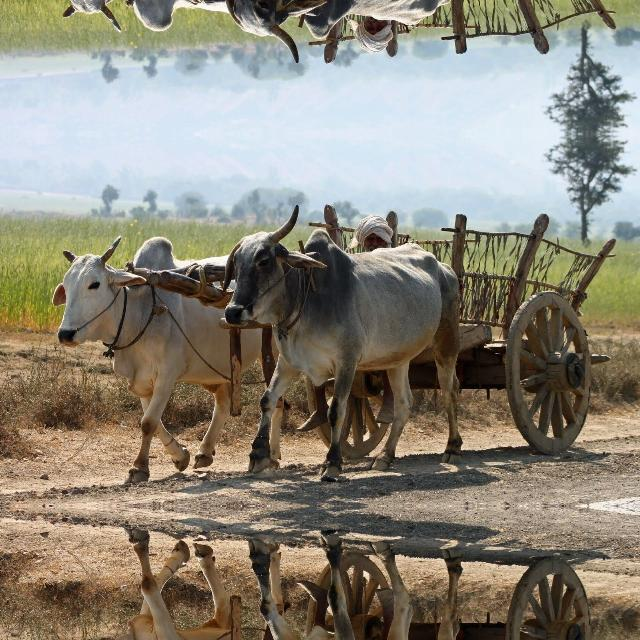person: (411, 215, 615, 453), (457, 558, 591, 639), (411, 0, 615, 52), (348, 215, 393, 251), (348, 16, 393, 52), (349, 215, 393, 251), (349, 16, 393, 52), (298, 580, 328, 625)
